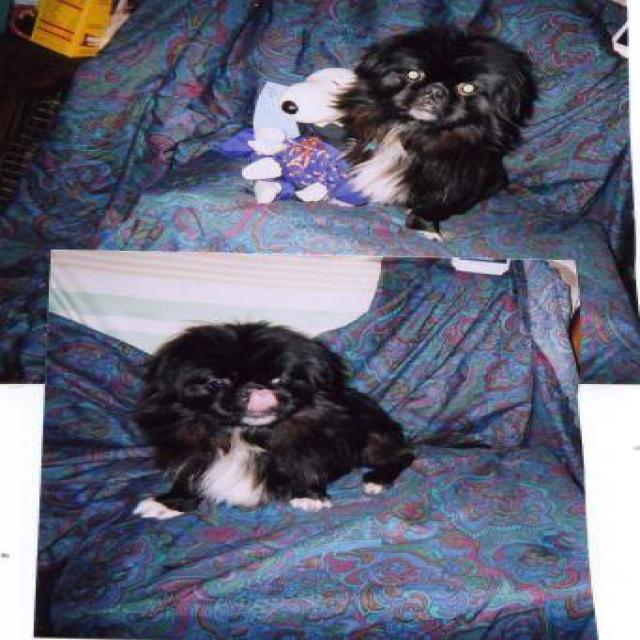dogs: (115, 312, 411, 514), (364, 34, 530, 228)
